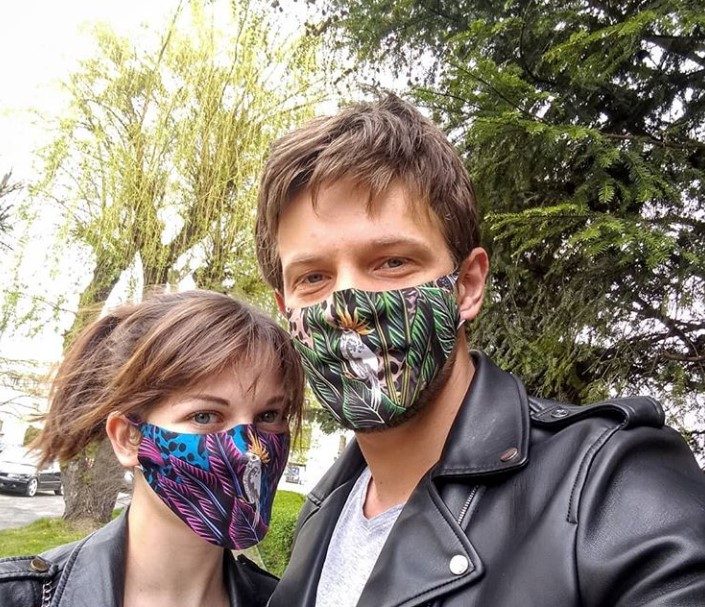face_with_mask: (270, 110, 471, 431), (115, 301, 297, 543)
